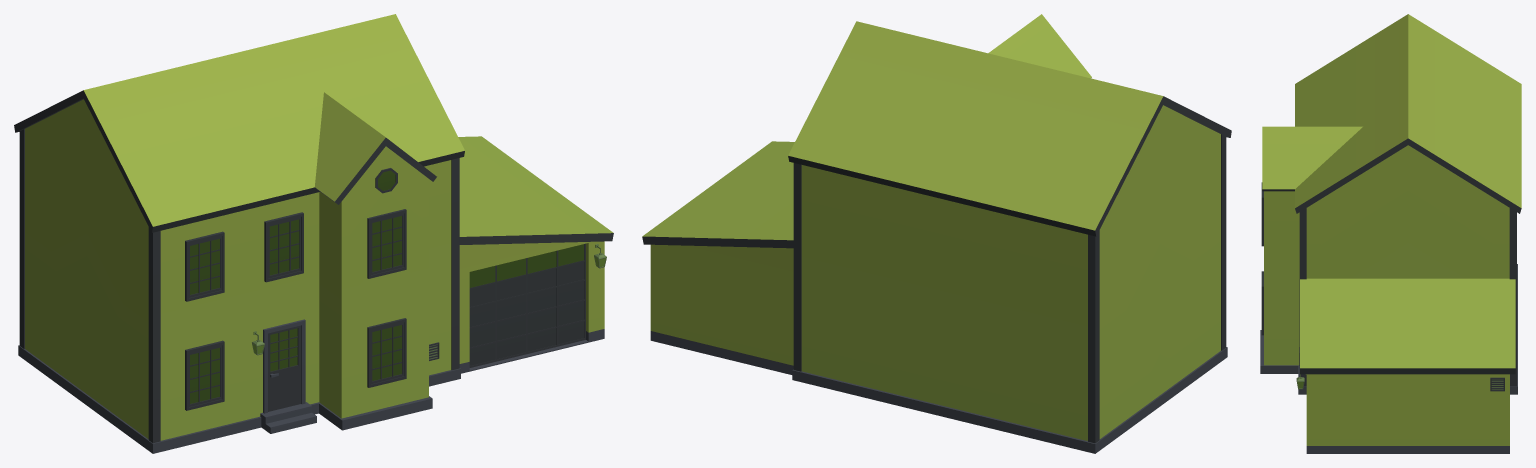
Rendered from SuburbHouse_09.fbx.
3 renders of one model, left to right at view 1: azimuth 30°, elevation 25°; view 2: azimuth 150°, elevation 25°; view 3: azimuth 270°, elevation 25°, orthographic. The views are drawn at different scales.
Parts seen in each view (by area): view 1: SuburbHouse_09; view 2: SuburbHouse_09; view 3: SuburbHouse_09.
Boxes of the visible parts, left/top/right/bottom form: SuburbHouse_09: left=14, top=14, right=613, bottom=453; SuburbHouse_09: left=642, top=14, right=1231, bottom=453; SuburbHouse_09: left=1260, top=14, right=1521, bottom=453.
Size of the model in its own units: 12.18 by 7.9 by 7.28.
